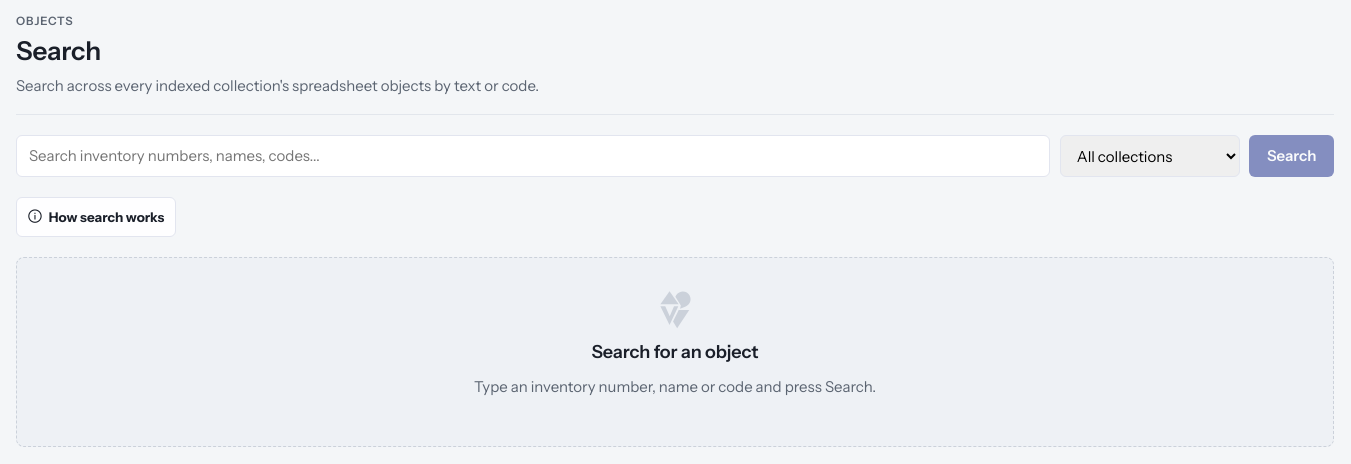
Scenario: ObjectSearchPageComponent › shows an empty state when nothing matches
The width and height of the screenshot is (1351, 464).
Type "nothing" into the search field with class "search-bar__input" at (533, 156), box [16, 135, 1050, 177]
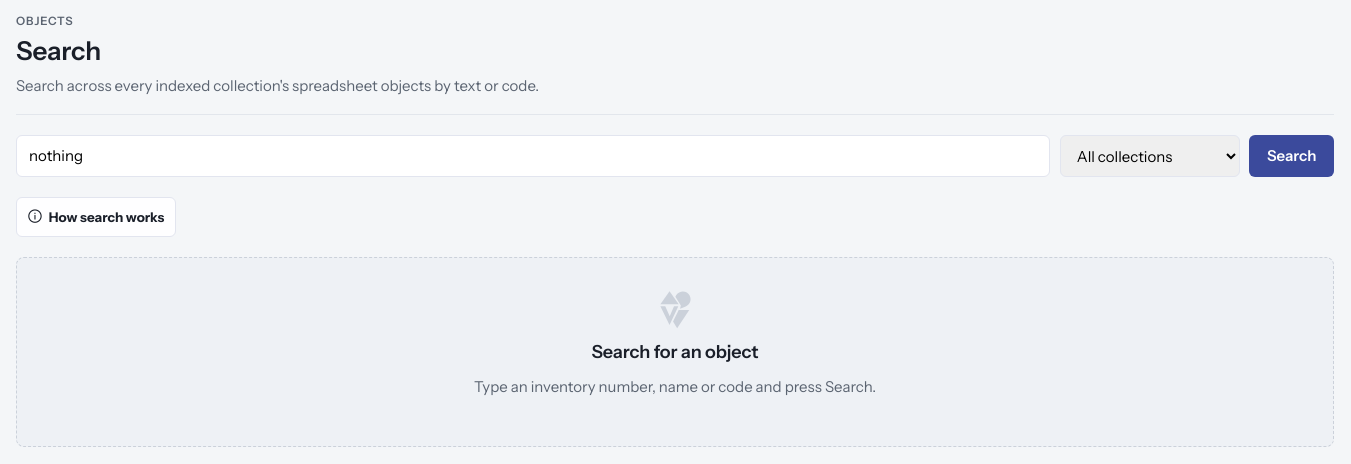
Click the button with class "search-bar__button" at (1292, 156), box [1249, 135, 1334, 177]
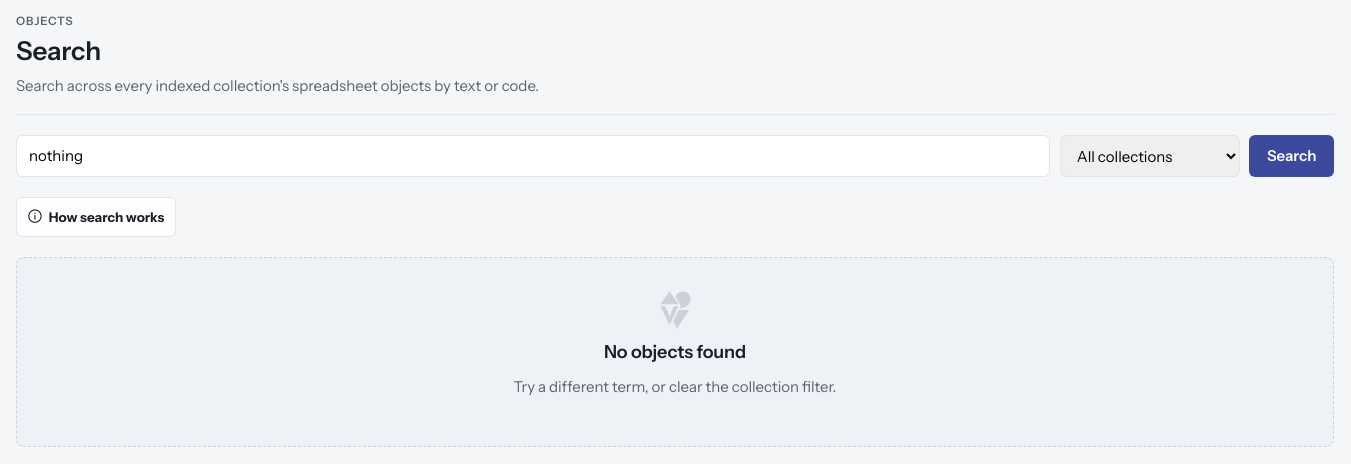
Result: the text "No objects found" is shown at [604, 341, 746, 364]
